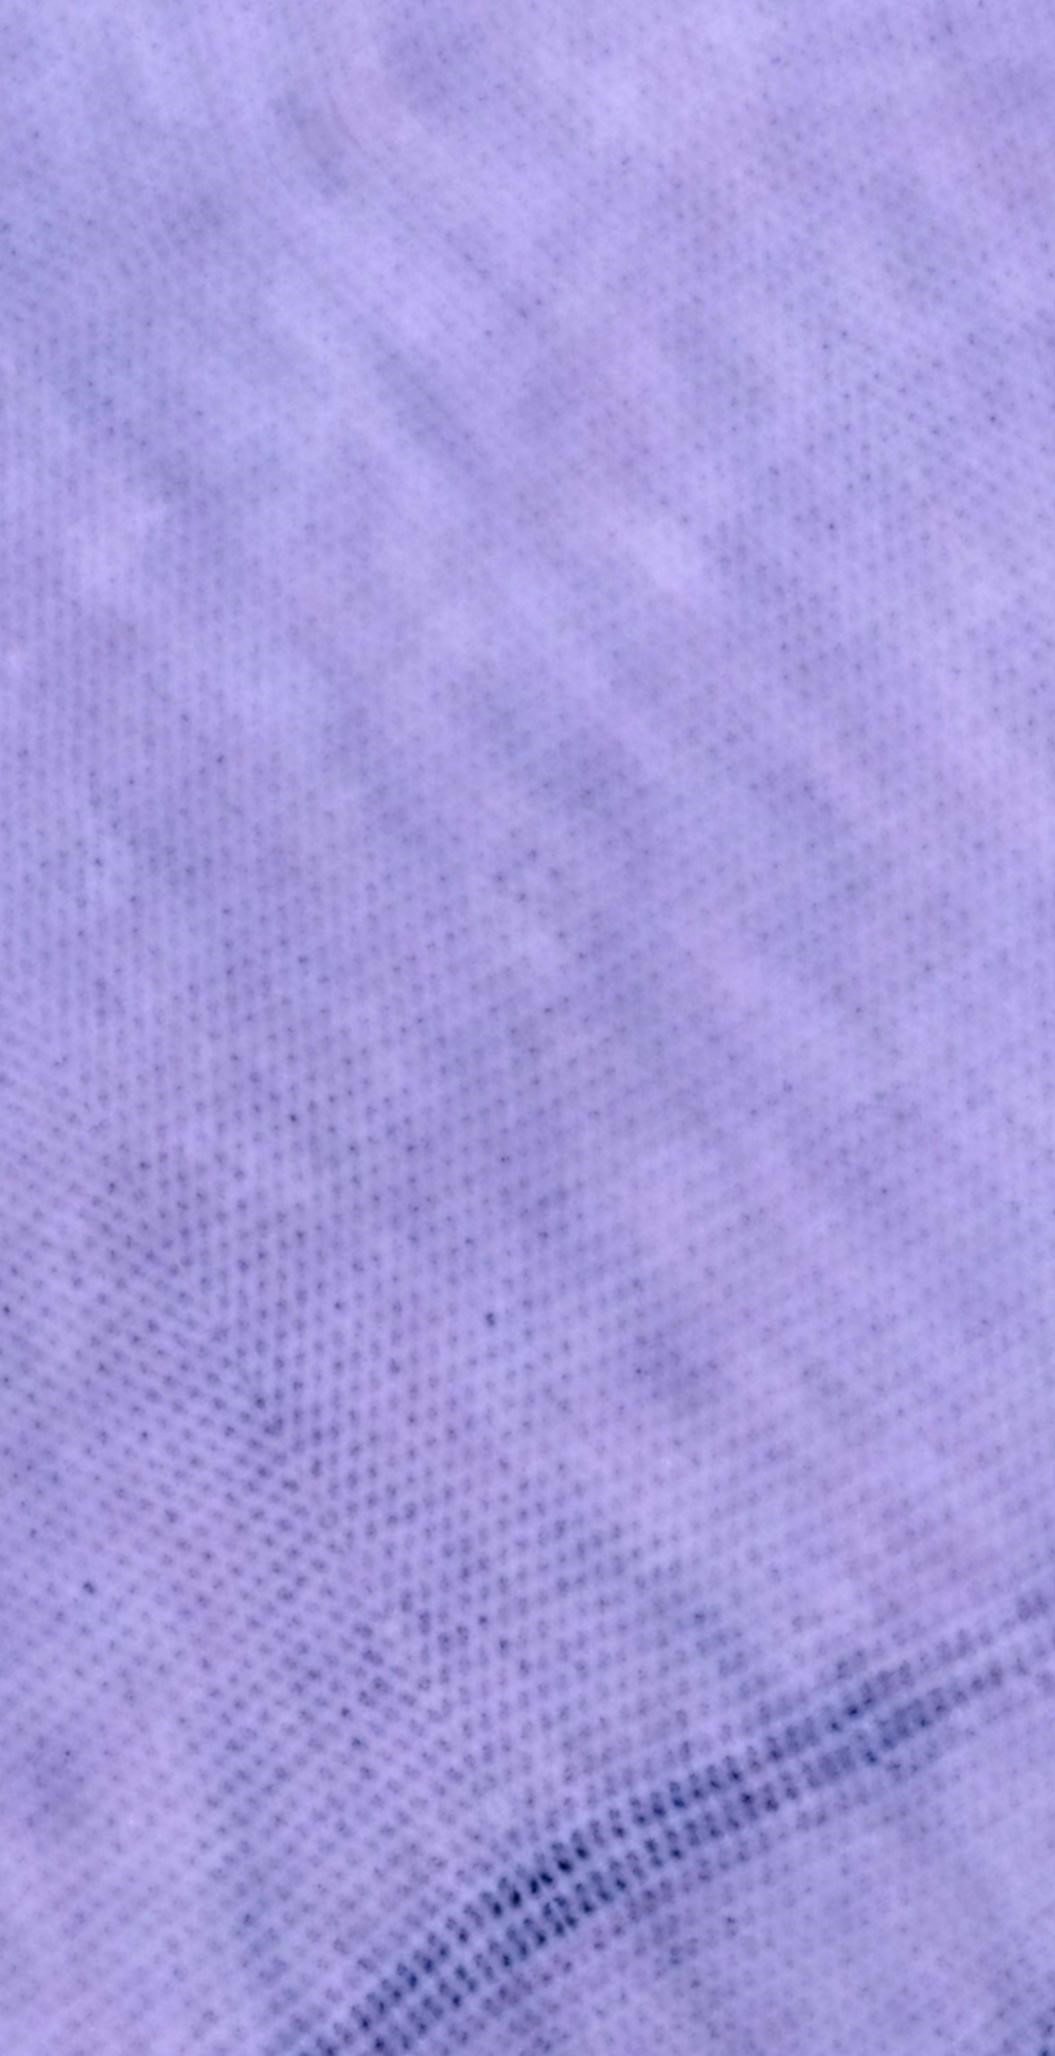slub: (279, 1590, 1054, 2056)
